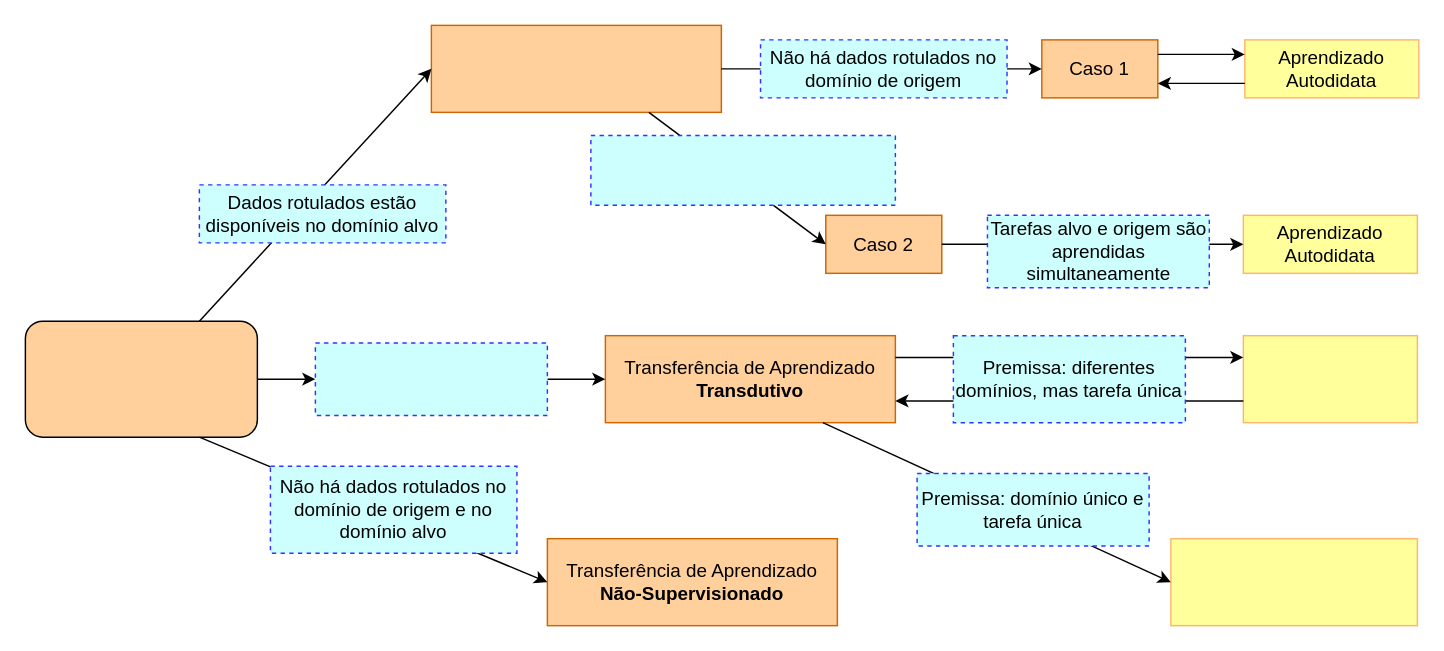
Some shapes in this 1444 by 651 pixel diagram are drawn without their labels. The shapes that lost their labels are listed below. From the top down, each one's box as (x1, y1, x2, y2) in pixels, then its label:
(430, 24, 721, 112): Transferência de Aprendizado Indutivo
(589, 134, 895, 205): Dados rotulados estão disponíveis no domínio de origem
(24, 320, 257, 437): Transferência de Aprendizado
(314, 341, 547, 415): Dados rotulados estão disponíveis somente no domínio de origem
(1242, 334, 1417, 423): Adaptação de Domínio
(1169, 537, 1417, 626): Viés de Seleção de Amostras / Mudança de Covariância
